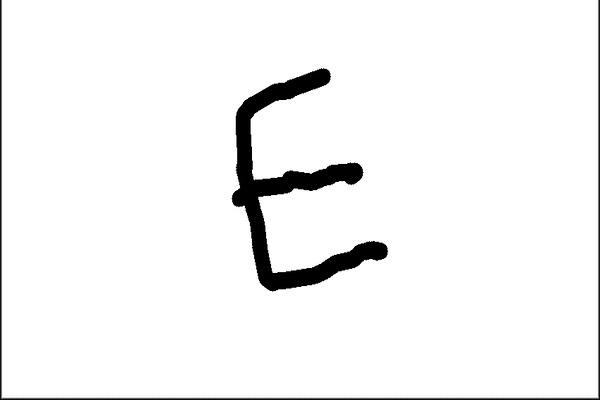E: (228, 62, 393, 297)
